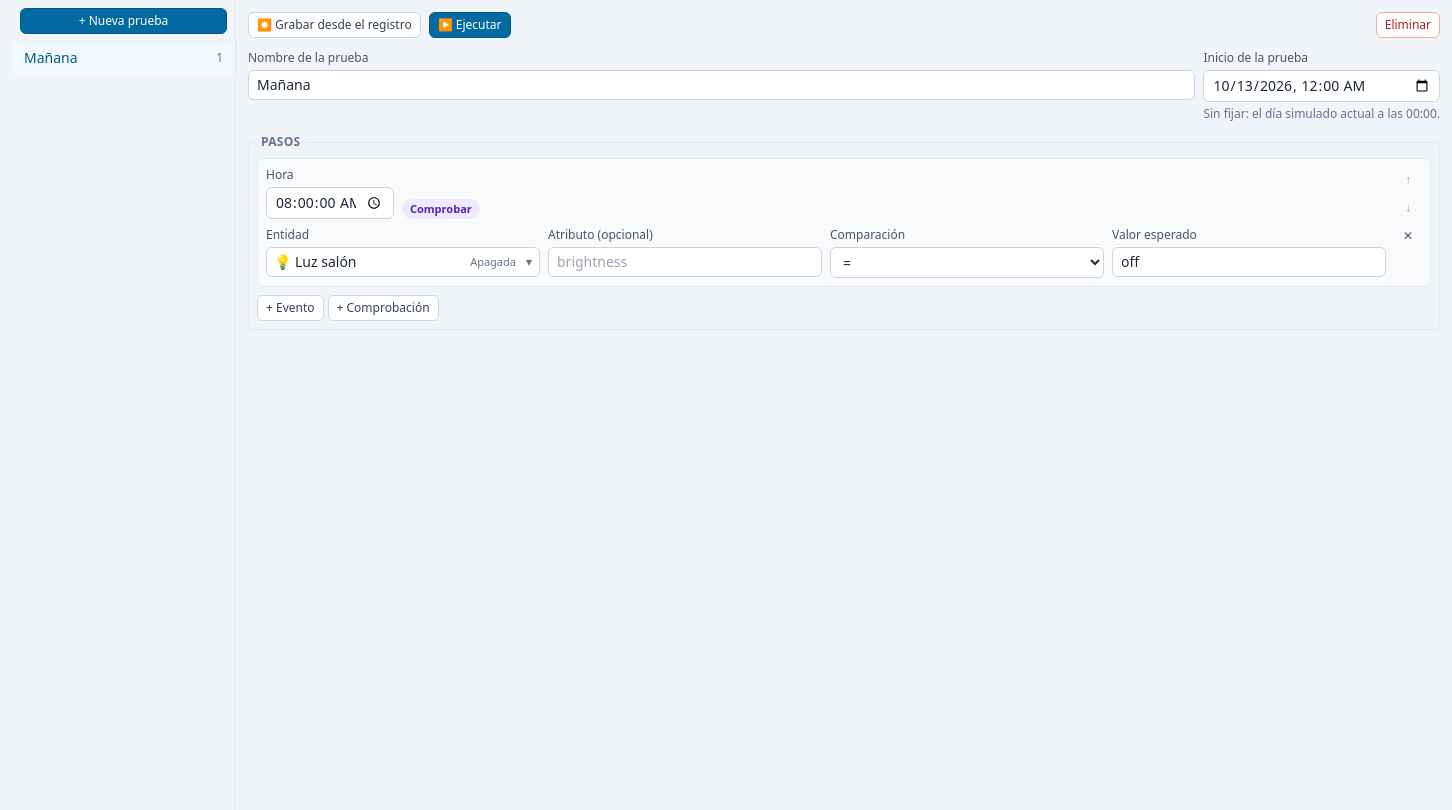
inicio de la prueba › se edita en el editor y la ejecución empieza en esa fecha
Replace the text in the field labelled "Inicio de la prueba" with "2027-03-05T00:00" at (1322, 86), box 1203,70 -> 1440,102
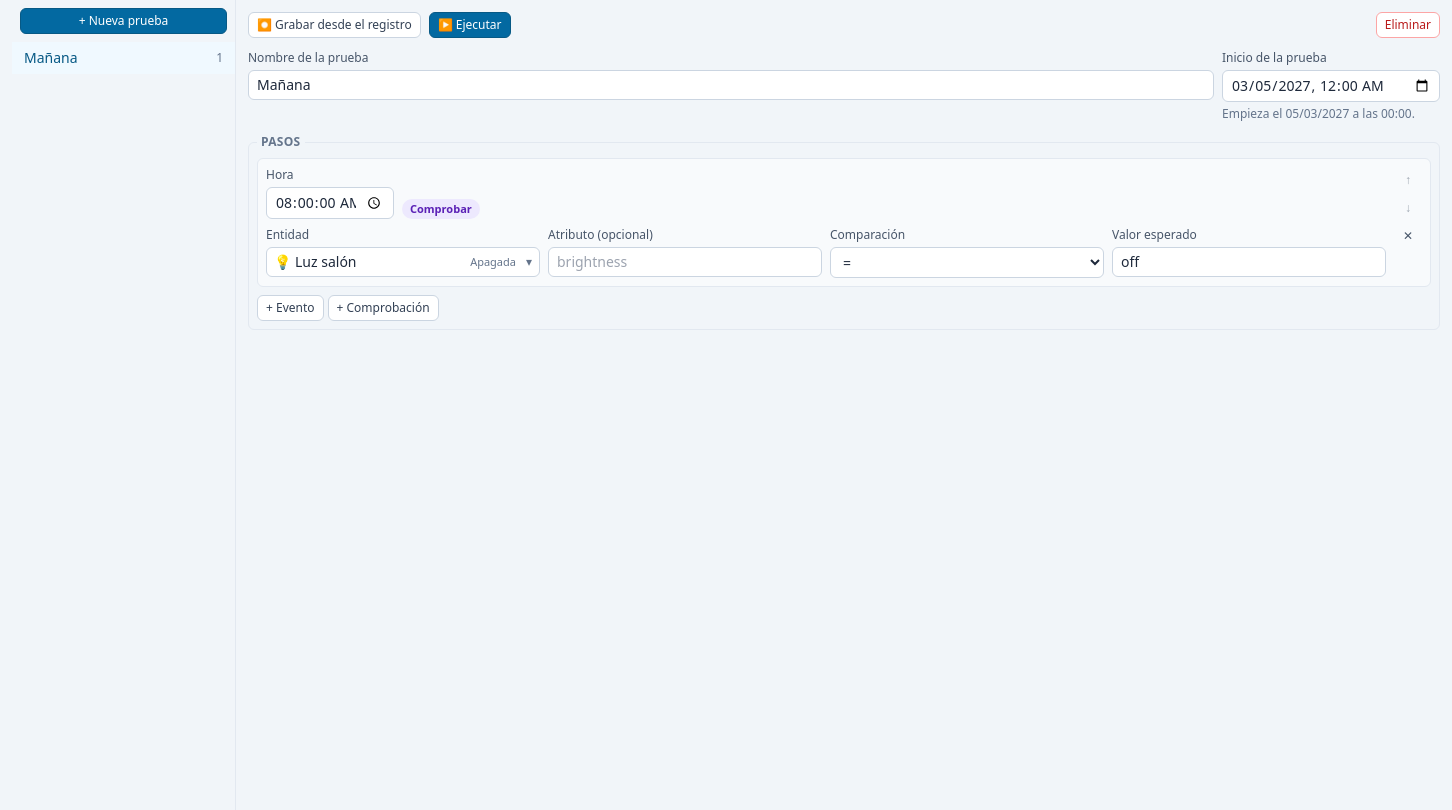
expect the text "Empieza el 05/03/2027 a las 00:00." is shown: met, box 1222,106 -> 1440,122
Click the button "▶ Ejecutar".
click(470, 25)  # box 429,12 -> 511,38
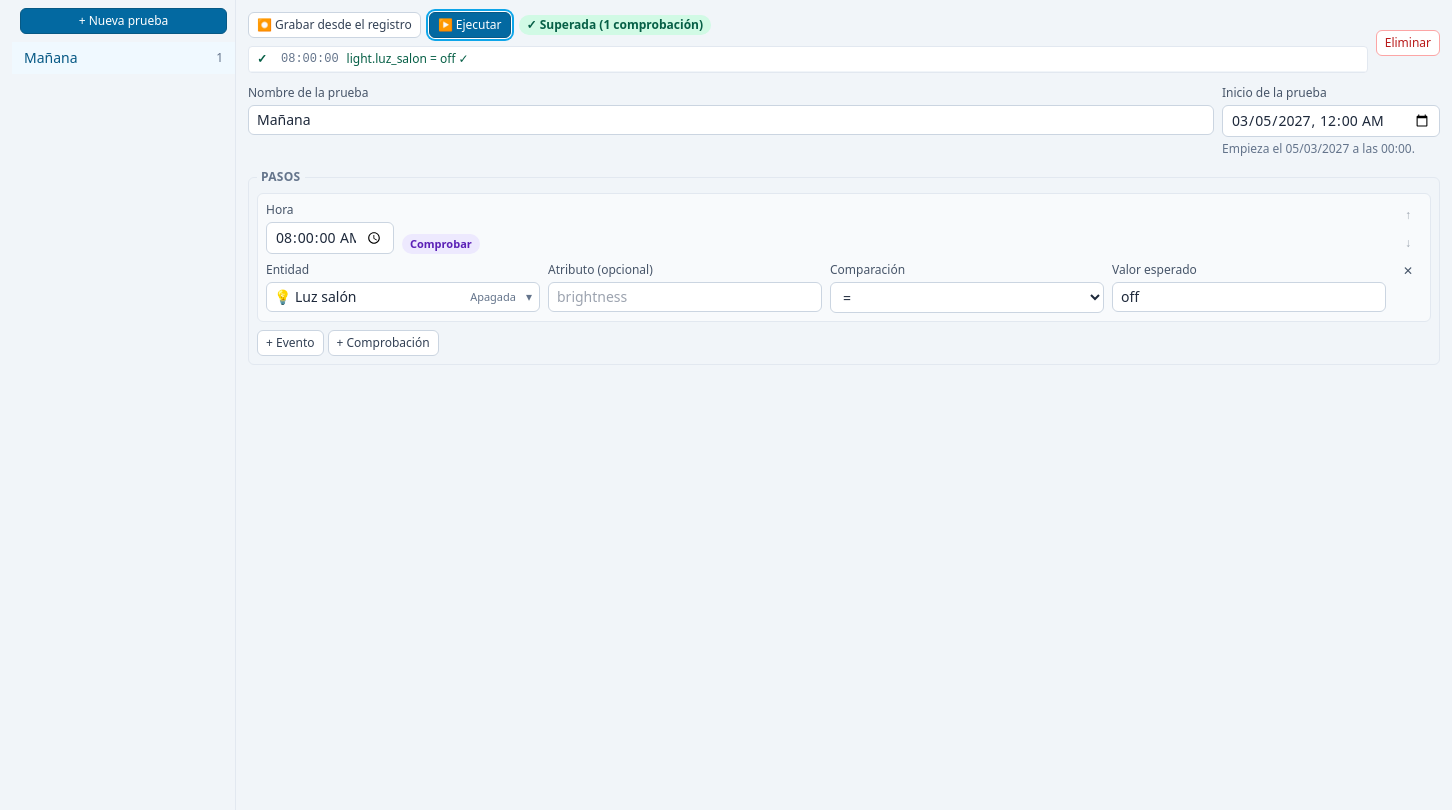
expect the text "✓ Superada (1 comprobación)" is shown: met, box 518,15 -> 711,35
